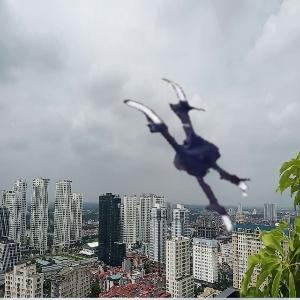drone: (98, 80, 263, 245)
